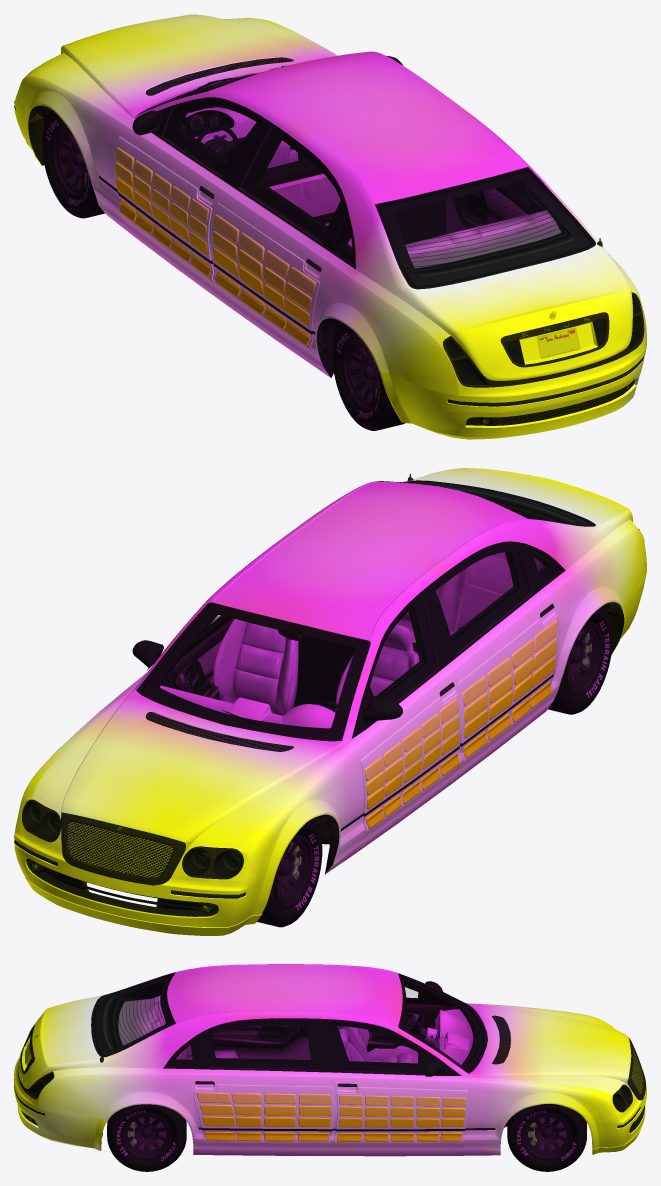
Rendered from cognoscenti2.glb.
3 renders of one model, top to bottom at view 1: azimuth 30°, elevation 25°; view 2: azimuth 150°, elevation 25°; view 3: azimuth 270°, elevation 25°, orthographic. The views are drawn at different scales.
Parts seen in each view (by area): view 1: bodyshell, chassis, boot, bonnet, windscreen_r, bumper_r, misc_f, door_dside_r, misc_e, door_dside_f, wing_lf, window_lr (+6 smaller); view 2: bodyshell, bonnet, chassis, bumper_f, wing_lf, misc_f, misc_e, door_dside_r, door_dside_f, window_lr, window_lf, boot (+7 smaller); view 3: bodyshell, bonnet, chassis, misc_d, misc_c, wing_rf, door_pside_r, door_pside_f, window_rr, wheel_rr, wheel_rf, windscreen_r (+7 smaller).
Boxes of the visible parts, left/top/right/bottom form: bodyshell: left=32, top=48, right=646, bottom=397; chassis: left=37, top=65, right=630, bottom=425; boot: left=419, top=249, right=629, bottom=375; bonnet: left=34, top=14, right=333, bottom=121; windscreen_r: left=377, top=170, right=592, bottom=287; bumper_r: left=380, top=346, right=646, bottom=439; misc_f: left=211, top=202, right=319, bottom=351; door_dside_r: left=210, top=122, right=346, bottom=354; misc_e: left=115, top=136, right=214, bottom=283; door_dside_f: left=115, top=97, right=268, bottom=285; wing_lf: left=14, top=69, right=133, bottom=235; window_lr: left=240, top=127, right=342, bottom=242; bodyshell: left=21, top=468, right=646, bottom=891; bonnet: left=33, top=686, right=353, bottom=843; chassis: left=42, top=483, right=623, bottom=910; bumper_f: left=14, top=836, right=274, bottom=935; wing_lf: left=226, top=740, right=364, bottom=891; misc_f: left=458, top=615, right=559, bottom=763; misc_e: left=361, top=694, right=461, bottom=833; door_dside_r: left=427, top=542, right=560, bottom=766; door_dside_f: left=352, top=587, right=461, bottom=836; window_lr: left=432, top=544, right=531, bottom=653; window_lf: left=368, top=596, right=437, bottom=701; boot: left=419, top=468, right=627, bottom=522; bodyshell: left=14, top=964, right=645, bottom=1156; bonnet: left=461, top=1003, right=630, bottom=1093; chassis: left=27, top=973, right=586, bottom=1139; misc_d: left=193, top=1084, right=334, bottom=1143; misc_c: left=333, top=1087, right=467, bottom=1143; wing_rf: left=461, top=1077, right=627, bottom=1155; door_pside_r: left=191, top=1018, right=335, bottom=1144; door_pside_f: left=318, top=1019, right=469, bottom=1144; window_rr: left=204, top=1021, right=319, bottom=1069; wheel_rr: left=107, top=1104, right=186, bottom=1171; wheel_rf: left=507, top=1104, right=586, bottom=1171; windscreen_r: left=93, top=974, right=174, bottom=1056.
Bounding box in the file's own units: 2.06 × 1.61 × 6.16.
20 materials, 20 textured.
